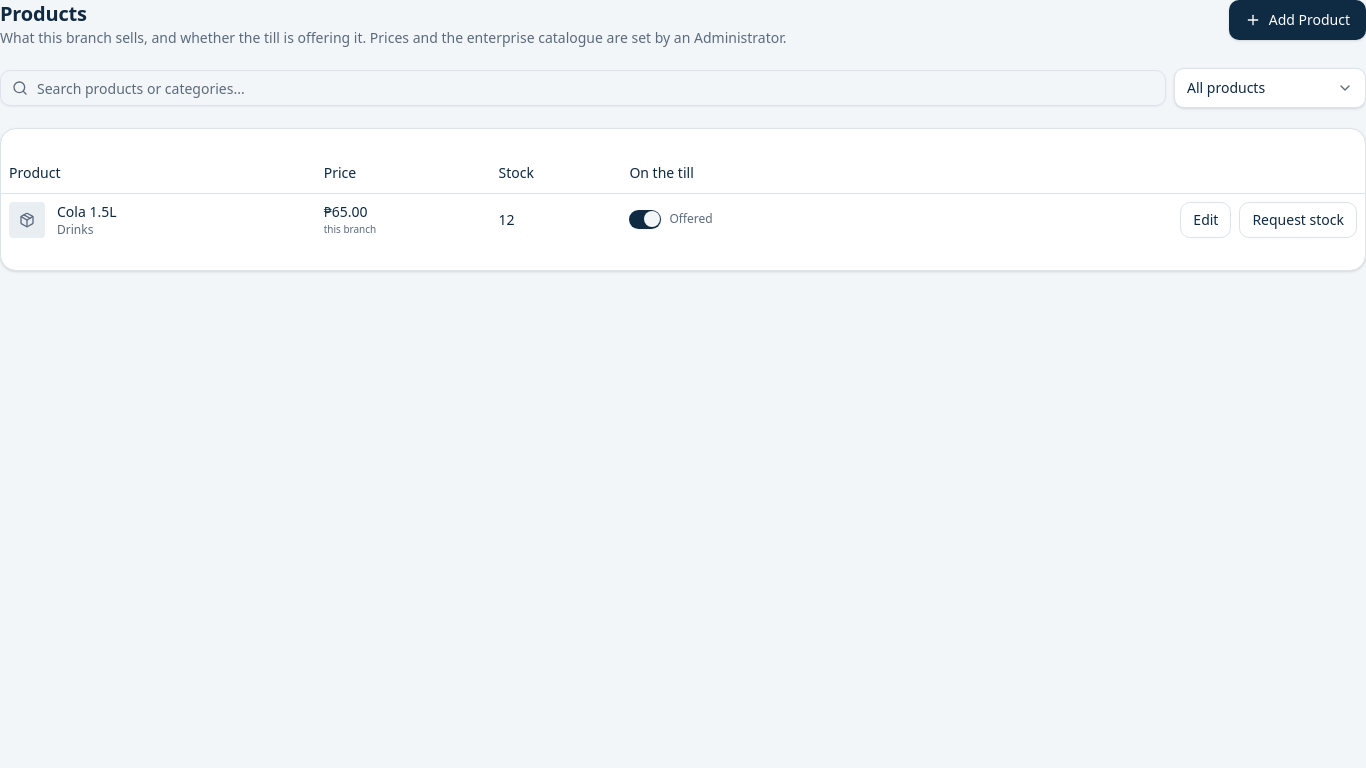
Test case: the Edit product category selector › had the same defect and gets the same source
Click the button "Edit" at (1206, 220), box left=1180, top=202, right=1231, bottom=238
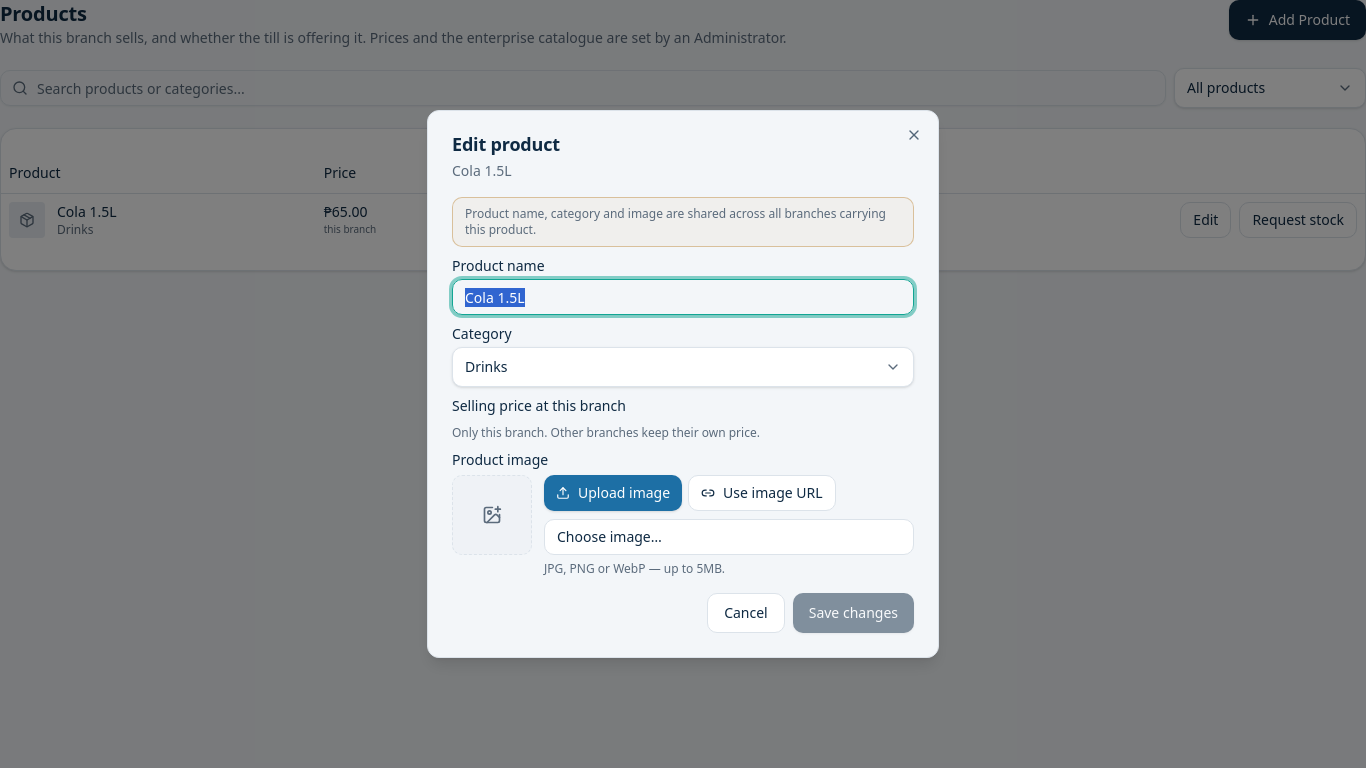
Click the dropdown named "Category" at (486, 366), box left=452, top=347, right=914, bottom=387
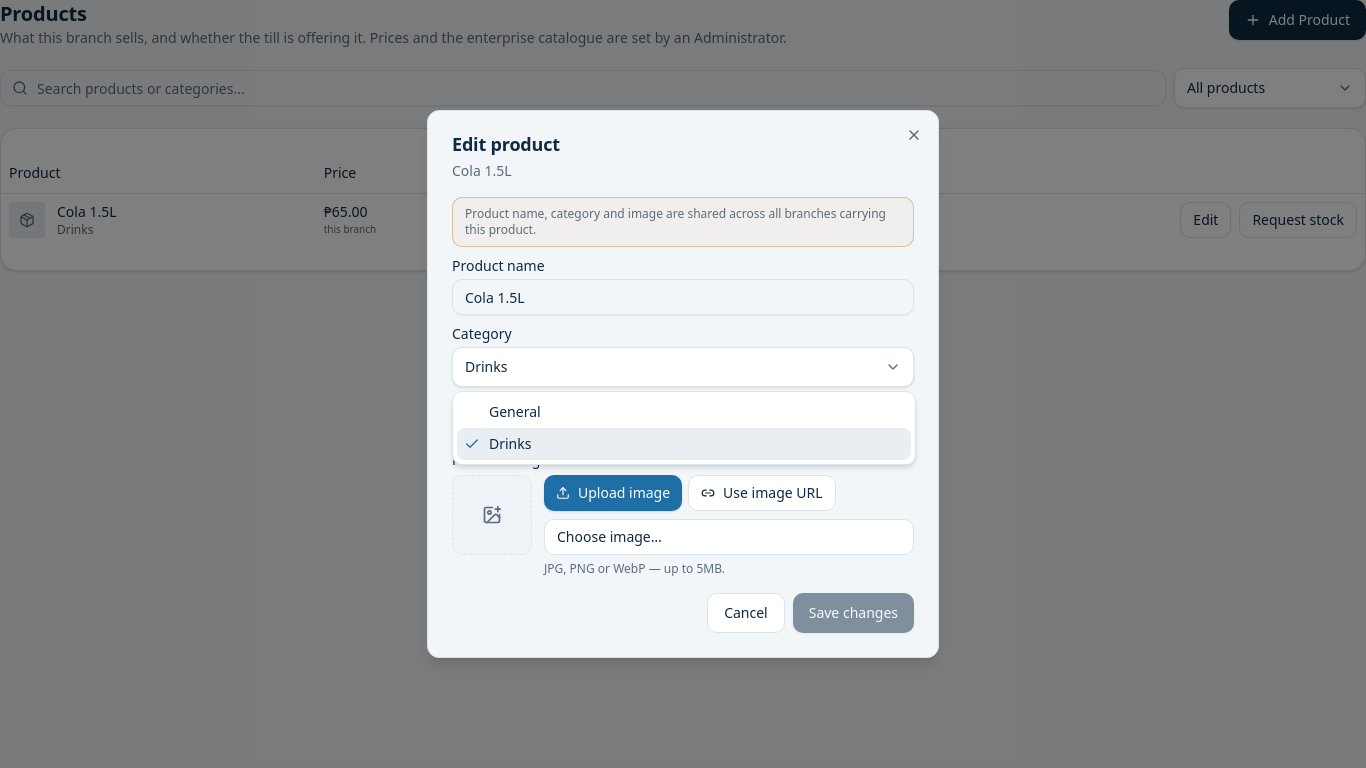
Now the option "General" is shown, box left=489, top=402, right=541, bottom=421
Now the option "Drinks" is shown, box left=457, top=428, right=911, bottom=460
